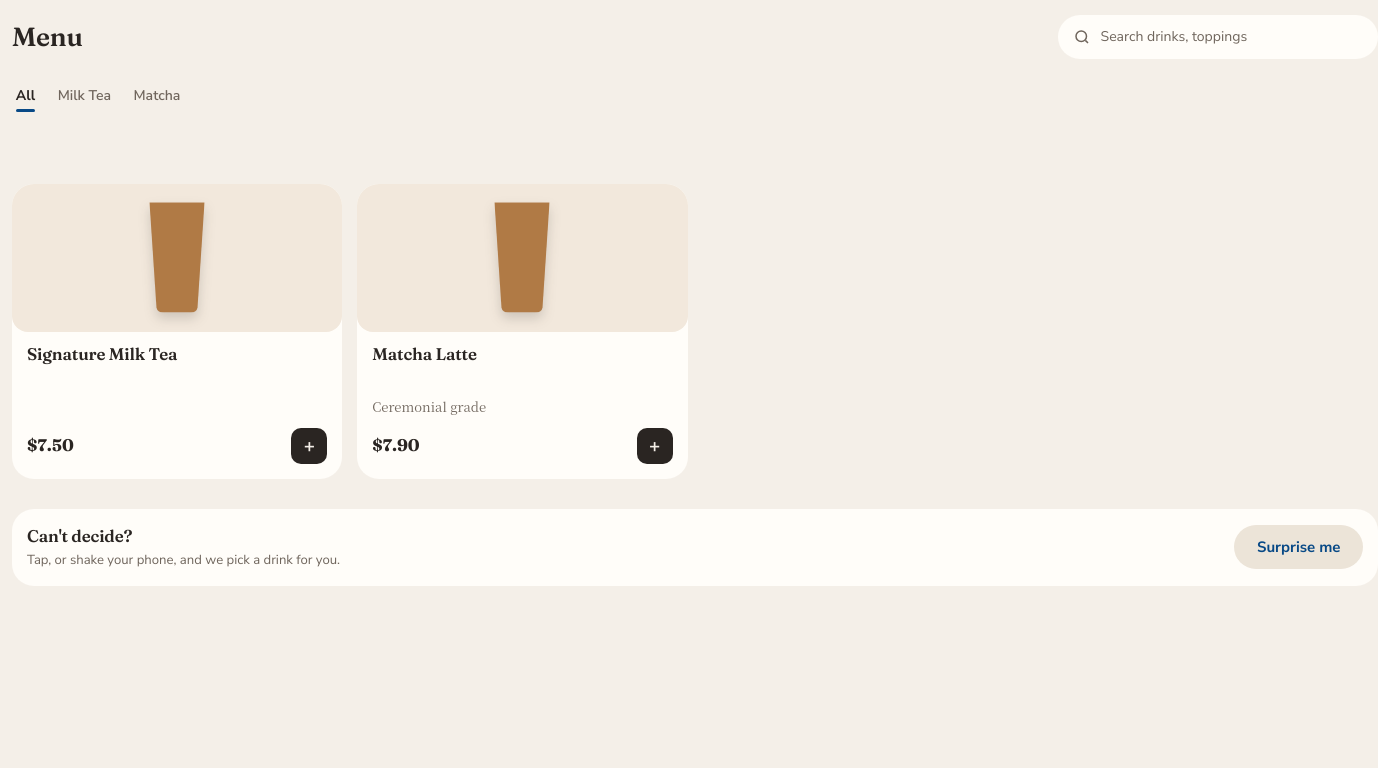
Test: MenuPage › filters as you type and by category together
Expected: the heading "Menu" is shown, [12,20,83,53]
In the search field labelled "Search drinks": (1231, 37) [1098,15,1363,59], type "tea"
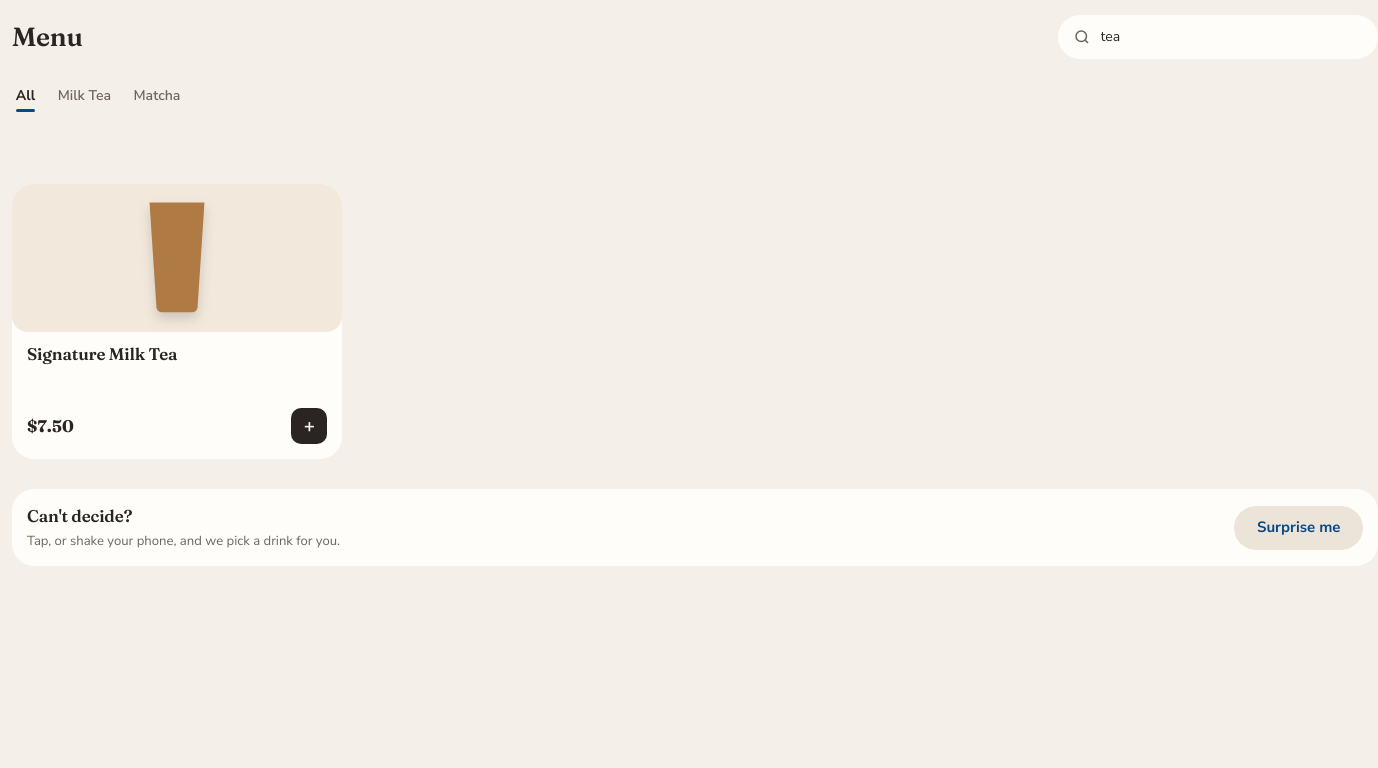
Click the button "Matcha": (157, 96) [130,74,184,118]
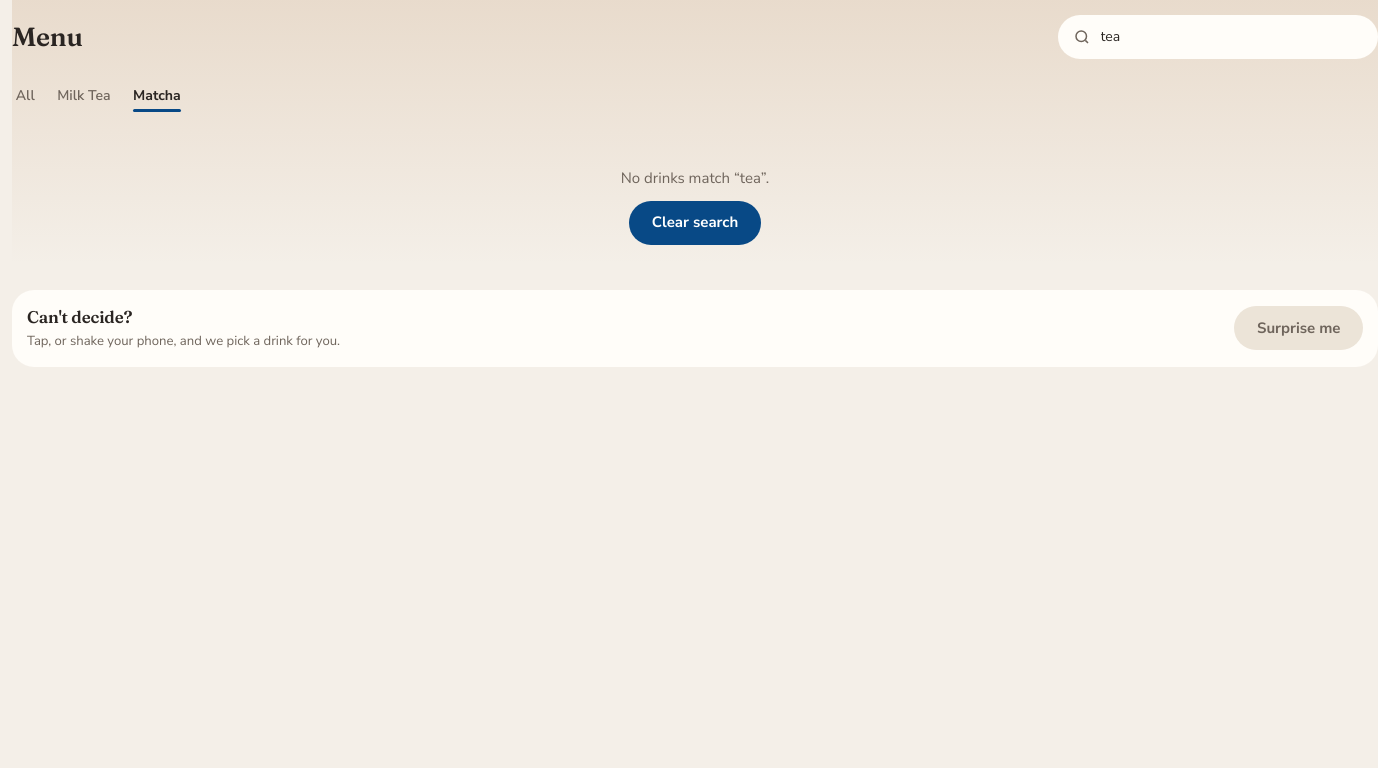
Expected: the text "No drinks match “tea”." is shown, [621,167,769,189]
Click the button "Clear search": (695, 222) [629,200,761,244]
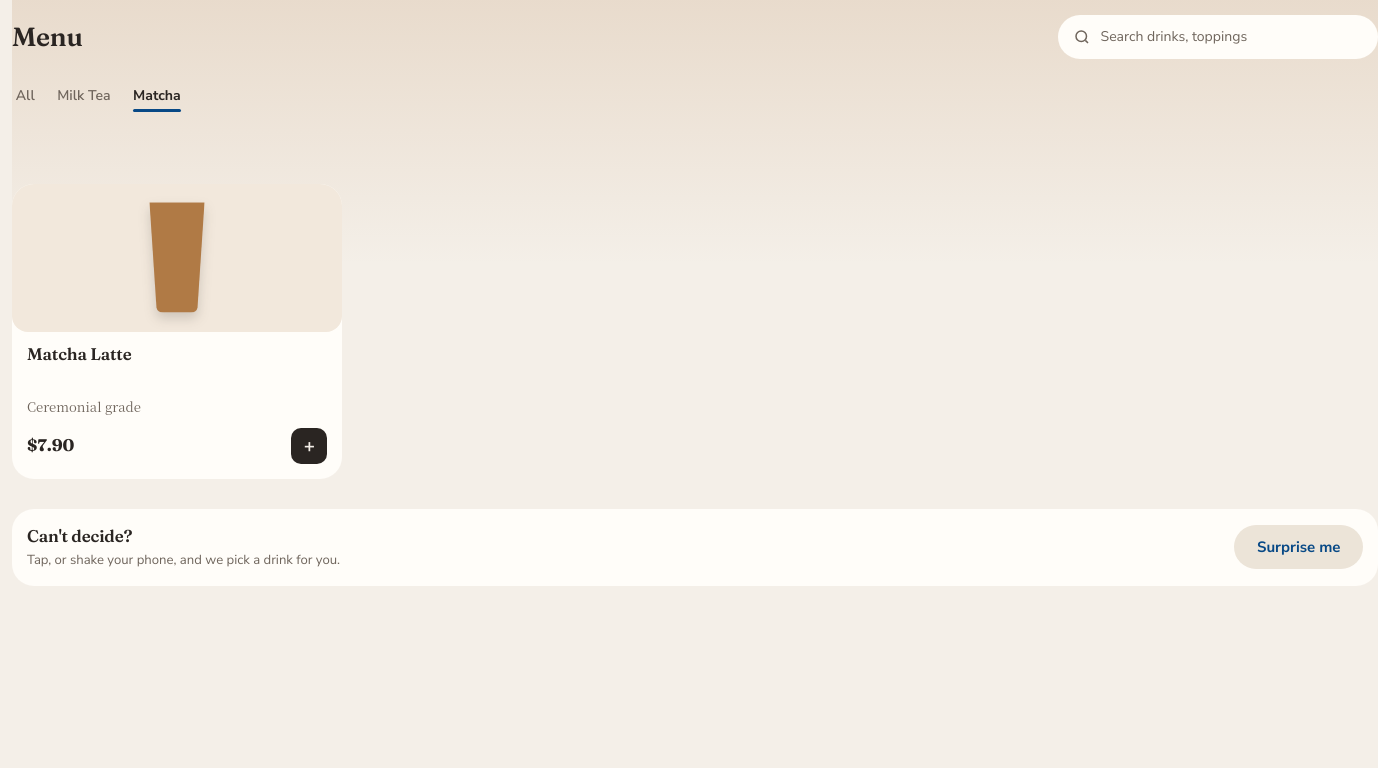
Expected: the element "Matcha Latte" is shown, [12,184,342,479]
